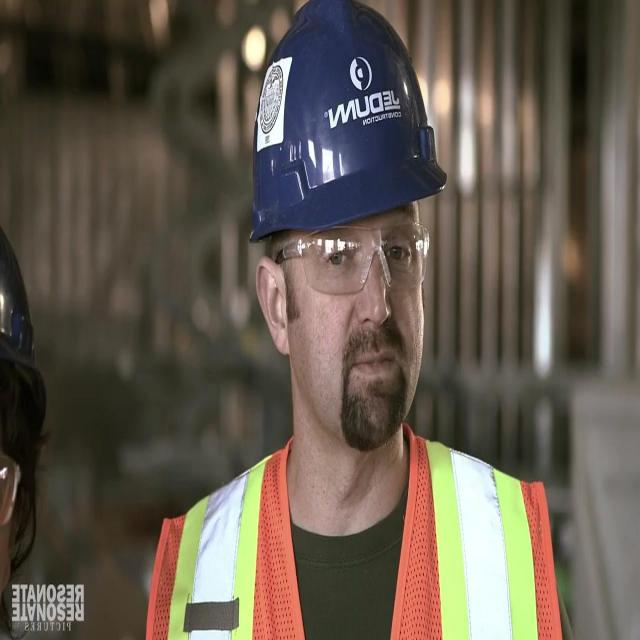Reflective-Jacket: (146, 424, 570, 640)
Safety-Helmet: (246, 6, 447, 252), (0, 156, 60, 434)
